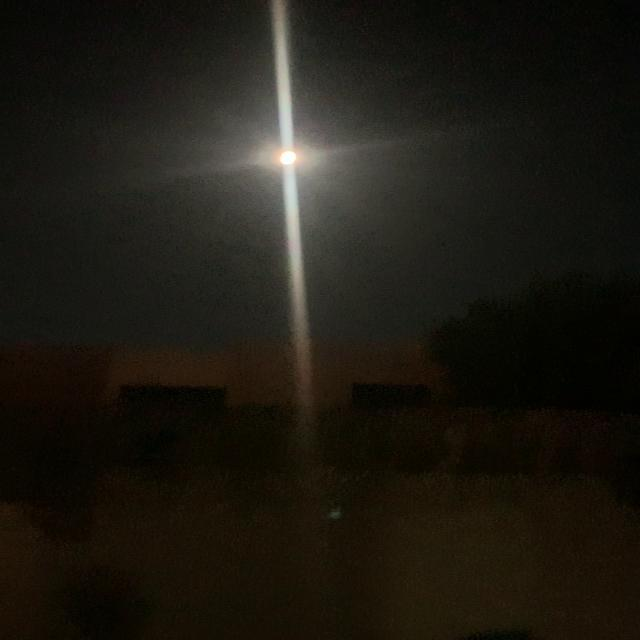moon: (261, 140, 323, 173)
